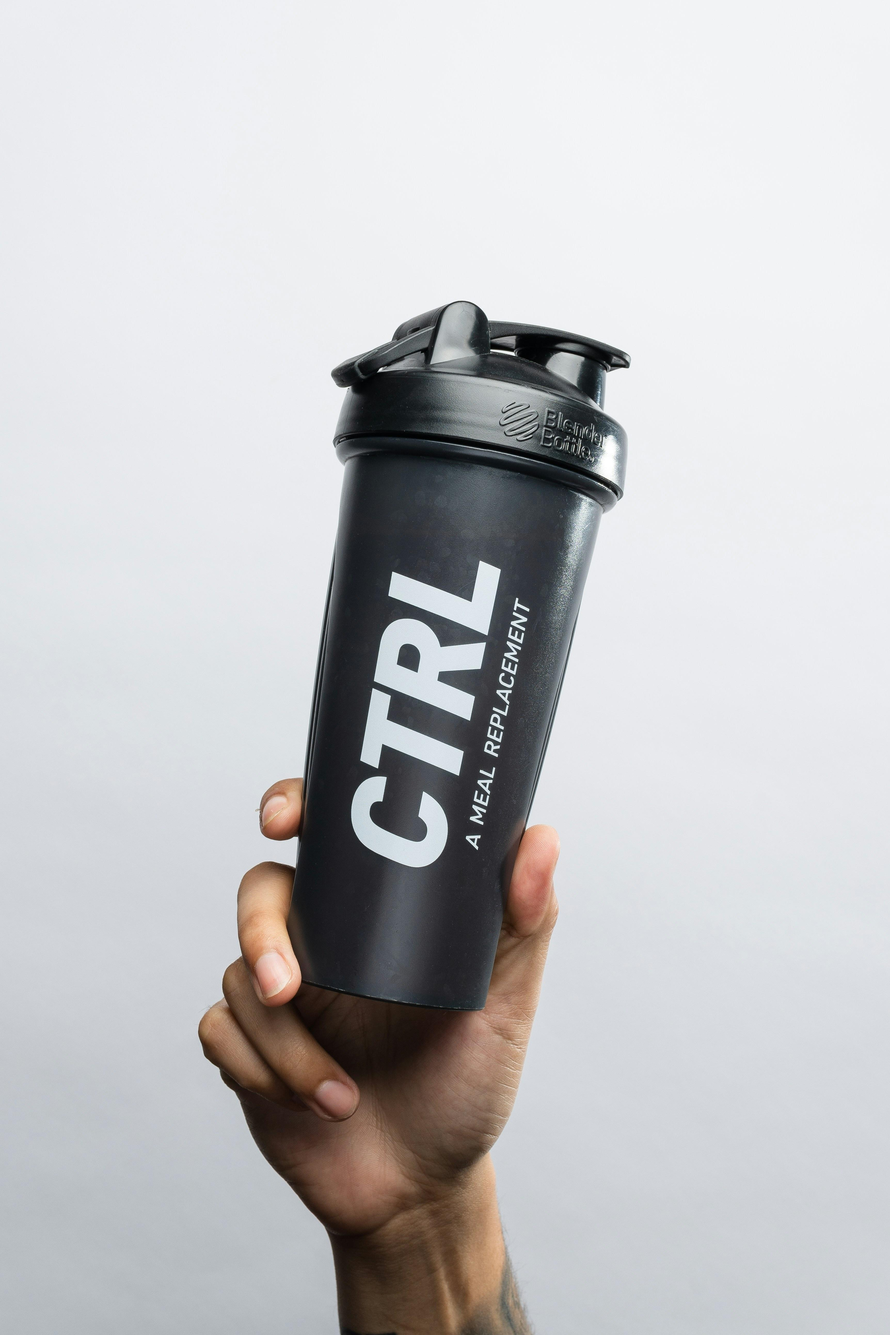Bottle-Detection: (248, 251, 676, 1057)
